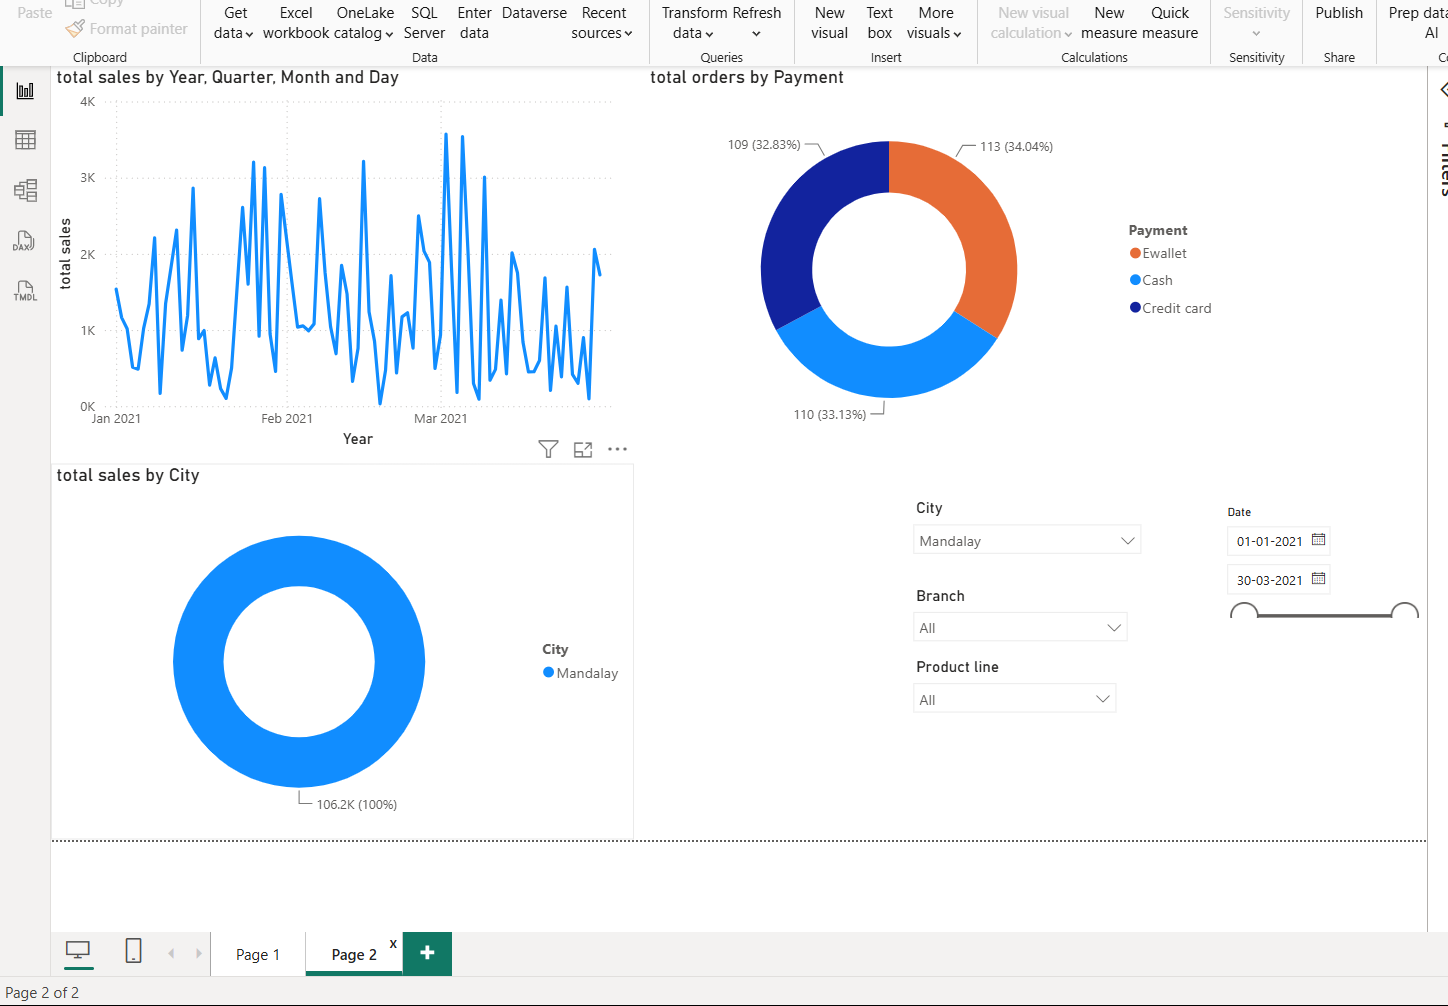

This screenshot's page, from the dashboard's own definition file:
{"tool":"powerbi","page":{"name":"Detailed Analysis","canvas":[1280,720],"ordinal":1},"visuals":[{"type":"lineChart","title":"Sales Trend Over Time","fields":{"Y":["Sales.total sales"],"Category":["Sales.Date.Variation.Date Hierarchy.Year","Sales.Date.Variation.Date Hierarchy.Quarter","Sales.Date.Variation.Date Hierarchy.Month","Sales.Date.Variation.Date Hierarchy.Day"]},"box":[0,0,541.9,360.5],"z":0},{"type":"donutChart","fields":{"Category":["Sales.City"],"Y":["Sales.total sales"]},"box":[0,370,542,350],"z":1},{"type":"donutChart","fields":{"Category":["Sales.Payment"],"Y":["Sales.total orders"]},"box":[552,0,542,360],"z":2},{"type":"slicer","fields":{"Values":["Sales.City"]},"box":[791.9,397.7,232.6,66.3],"z":3},{"type":"slicer","fields":{"Values":["Sales.Branch"]},"box":[791.9,479.1,219.8,66.3],"z":4},{"type":"slicer","fields":{"Values":["Sales.Product line"]},"box":[791.9,545.4,209.3,59.3],"z":5},{"type":"slicer","fields":{"Values":["Sales.Date"]},"box":[1081.4,403.5,198.8,109.3],"z":6}]}

Visuals, with their boxes on the page's 1280x720 design canvas (x1, y1, x2, y2). These are canvas units, not pixel positions in the 1448x1006 screenshot, which may show the page scaled, cropped or inside an application window:
"Sales Trend Over Time" lineChart: locate(0, 0, 542, 360)
donutChart - Sales.City x Sales.total sales: locate(0, 370, 542, 720)
donutChart - Sales.Payment x Sales.total orders: locate(552, 0, 1094, 360)
slicer - Sales.City: locate(792, 398, 1024, 464)
slicer - Sales.Branch: locate(792, 479, 1012, 545)
slicer - Sales.Product line: locate(792, 545, 1001, 605)
slicer - Sales.Date: locate(1081, 404, 1280, 513)
